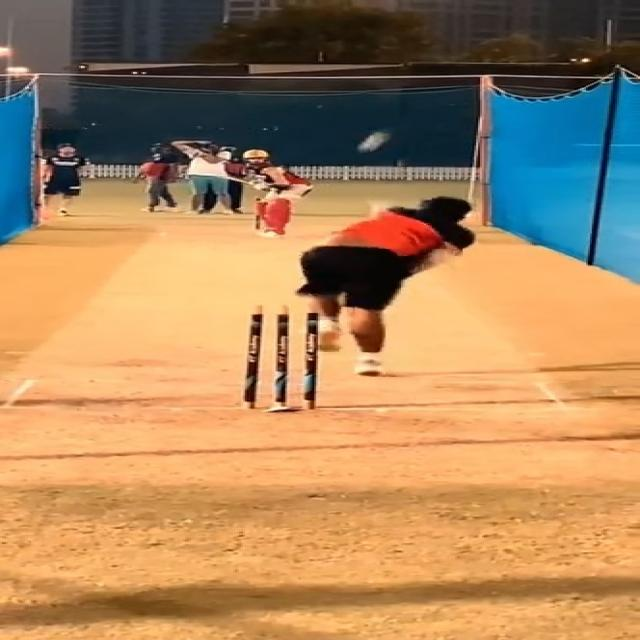batsman: (219, 148, 316, 238)
